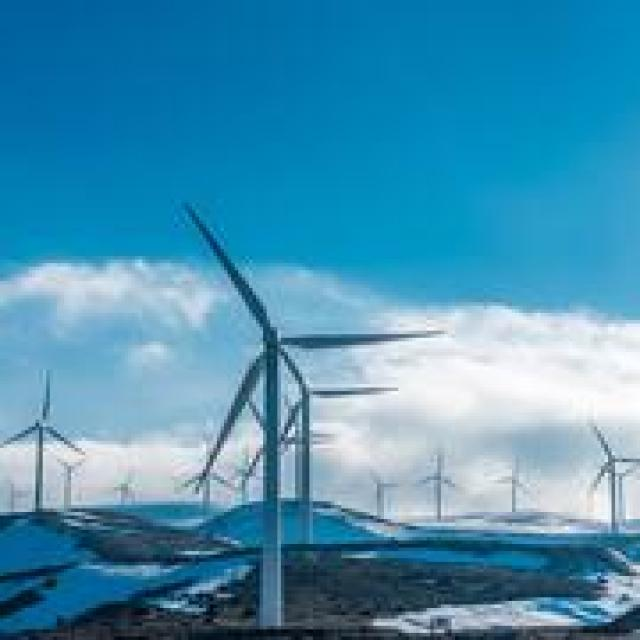solid-blade: (185, 202, 270, 331), (188, 354, 264, 491), (281, 330, 445, 348)
wind-turbine: (186, 204, 444, 626), (0, 370, 85, 512)
